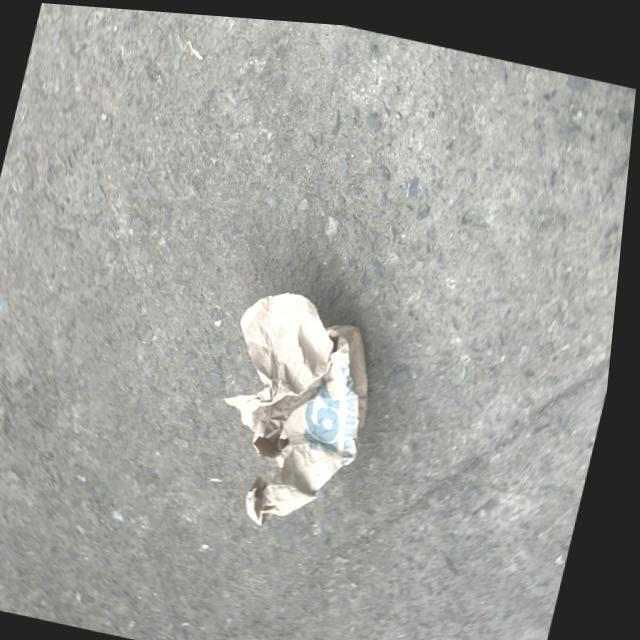Paper_Bag: (203, 280, 398, 537)
